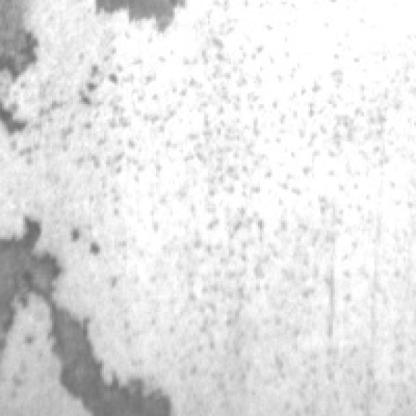patches: (52, 295, 181, 414), (2, 210, 64, 339), (2, 0, 46, 85), (92, 0, 196, 33)
pitted_surface: (68, 35, 412, 339)
